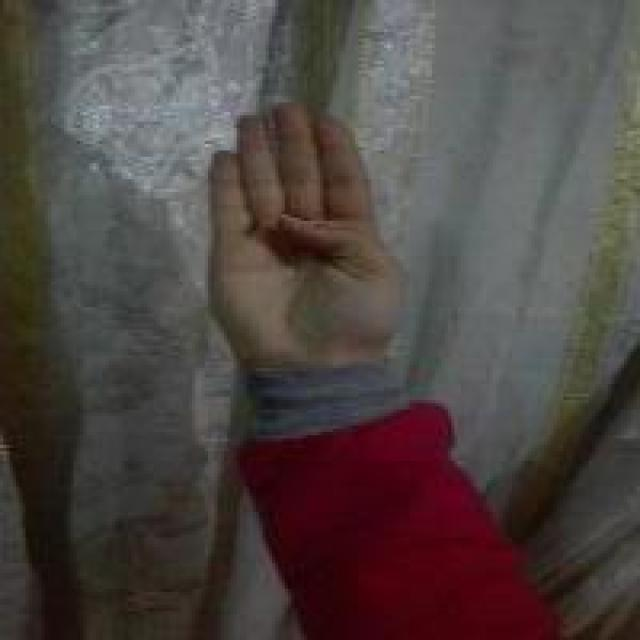B: (198, 98, 413, 379)
